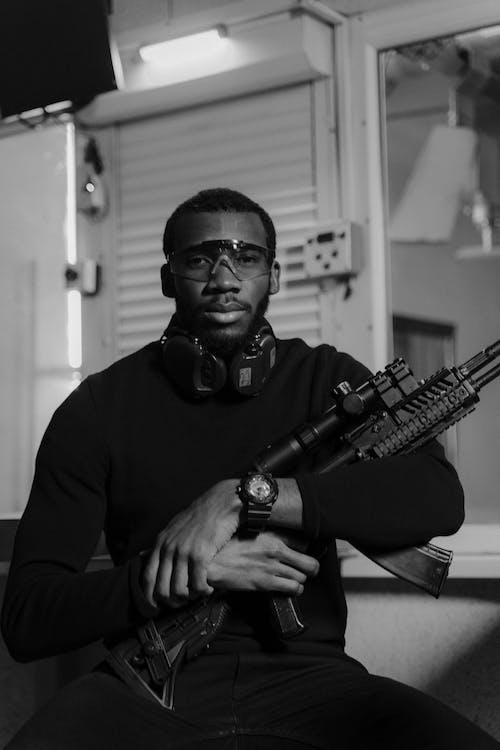gun: (100, 333, 500, 716)
